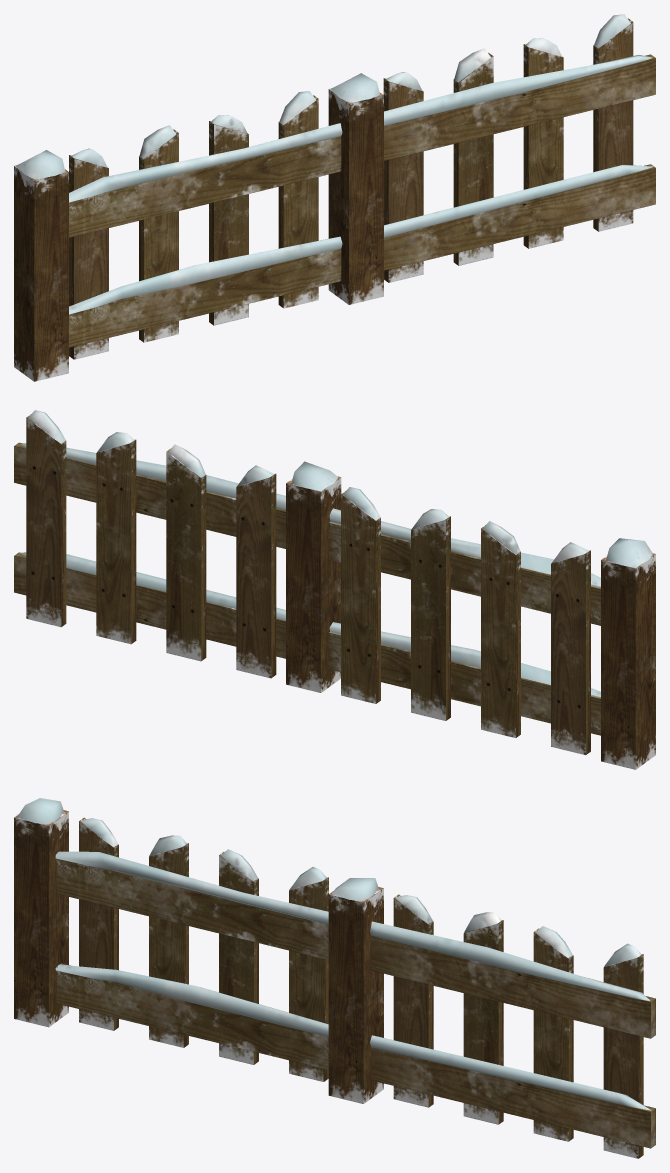
The model's file is fence_double.FBX.
3 renders of one model, top to bottom at view 1: azimuth 30°, elevation 25°; view 2: azimuth 150°, elevation 25°; view 3: azimuth 330°, elevation 25°, orthographic.
Parts seen in each view (by area): view 1: fence_double; view 2: fence_double; view 3: fence_double.
Boxes of the visible parts, <box> form: fence_double: <box>14,14,655,381</box>; fence_double: <box>14,410,655,769</box>; fence_double: <box>14,798,655,1158</box>.
Bounding box in the file's own units: 361 × 119 × 20.42.
1 material, 1 textured.
